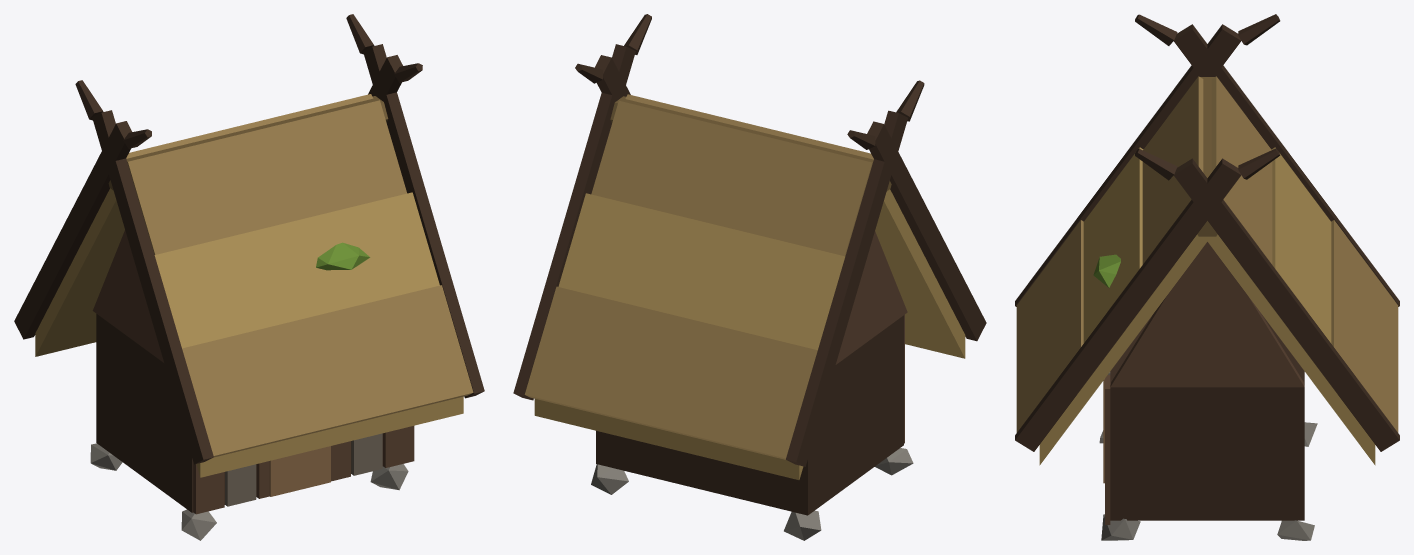
File: forest_hut.glb
3 views of the same model, side by side, from view 1: azimuth 30°, elevation 25°; view 2: azimuth 150°, elevation 25°; view 3: azimuth 270°, elevation 25° (orthographic).
Visible parts, largest first — view 1: forest_hut; view 2: forest_hut; view 3: forest_hut.
Boxes of the visible parts, x1,y1,x2,y2 form: forest_hut: (14,14,484,540); forest_hut: (513,14,986,540); forest_hut: (1015,14,1399,540).
Size of the model in its own units: 3.79 by 5.18 by 4.36.
